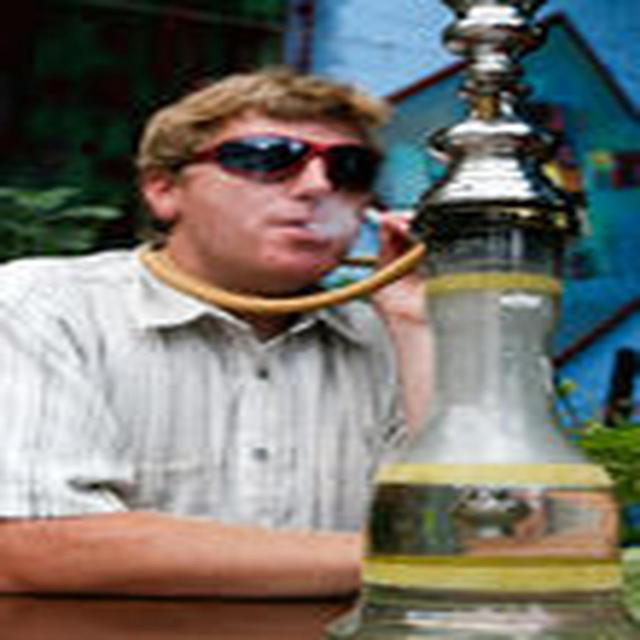smoking: (126, 7, 617, 626)
